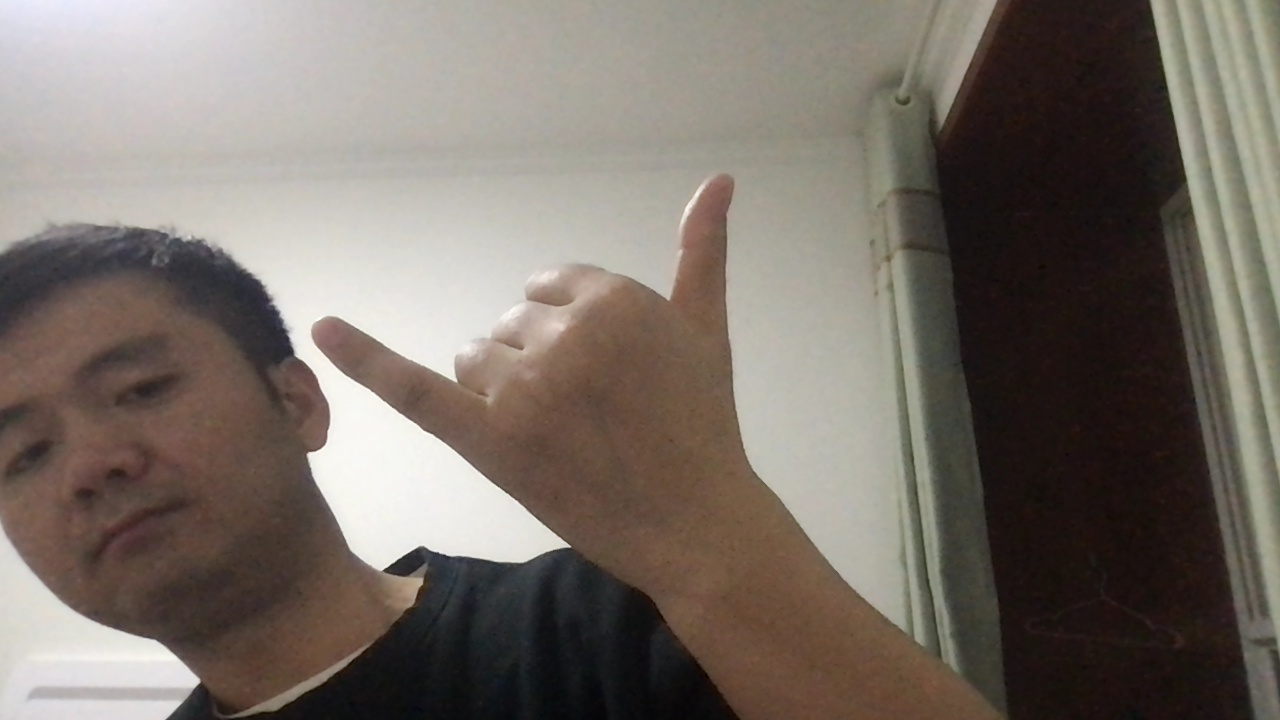iloveyou: (301, 168, 855, 552)
